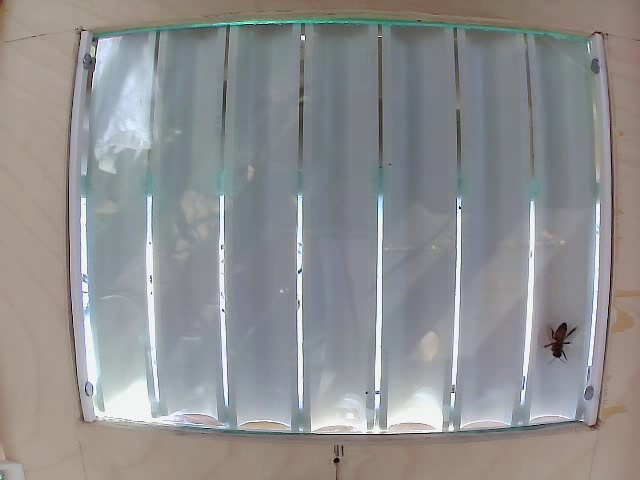bee: (544, 320, 582, 367)
